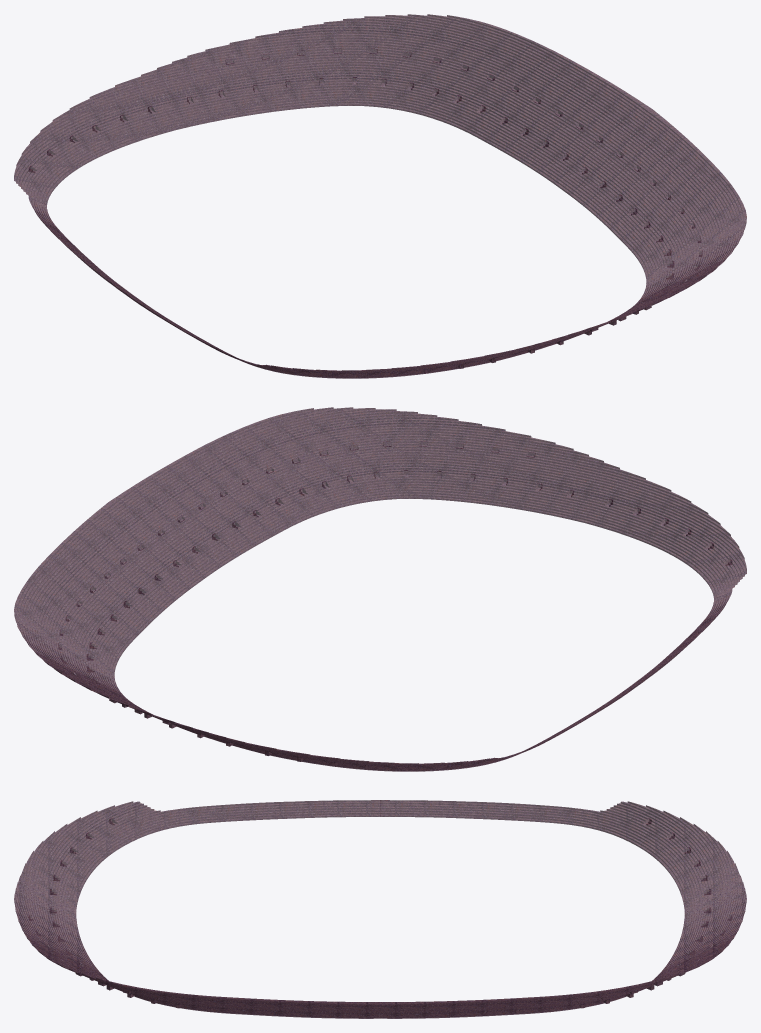
Rendered from redaudience.obj.
The picture shows the model from 3 angles, top to bottom: view 1: azimuth 30°, elevation 25°; view 2: azimuth 150°, elevation 25°; view 3: azimuth 270°, elevation 25°; orthographic projection. The views are drawn at different scales.
Parts seen in each view (by area): view 1: terzoanello01; view 2: terzoanello01; view 3: terzoanello01.
Boxes of the visible parts, x1,y1,x2,y2 form: terzoanello01: [14, 14, 746, 378]; terzoanello01: [14, 407, 746, 771]; terzoanello01: [14, 800, 746, 1018].
Size of the model in its own units: 201 by 21.17 by 249.
Materials: 1 (1 with a texture image).
